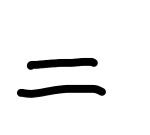eqv: (17, 58, 106, 97)
